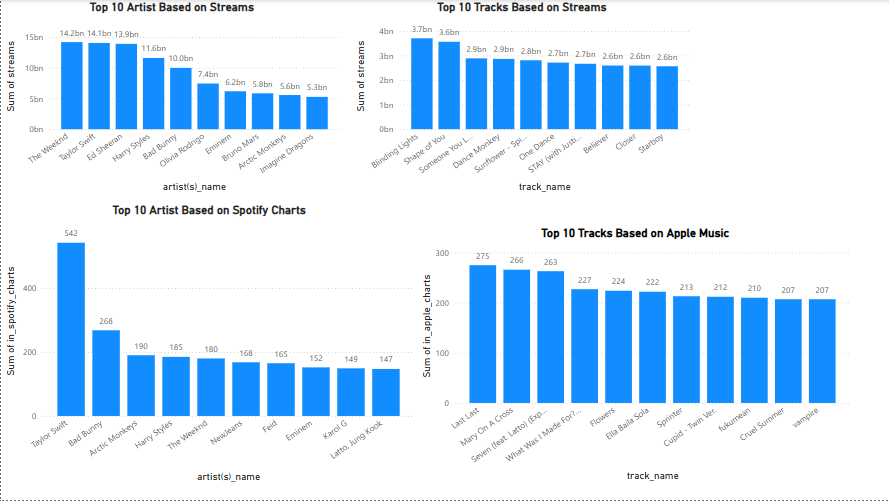

This screenshot's page, from the dashboard's own definition file:
{"tool":"powerbi","page":{"name":"Page 2","canvas":[1280,720],"ordinal":1},"visuals":[{"type":"clusteredColumnChart","title":"Top 10 Artist Based on Streams","fields":{"Category":["spotify-2023.artist(s)_name"],"Y":["spotify-2023.streams"]},"box":[0,0,492.2,282.2],"z":0},{"type":"clusteredColumnChart","title":"Top 10 Artist Based on Spotify Charts","fields":{"Y":["spotify-2023.in_spotify_charts"],"Category":["spotify-2023.artist(s)_name"]},"box":[0,292.3,599.7,406.5],"z":1000},{"type":"columnChart","title":"Top 10 Tracks Based on Streams","fields":{"Category":["spotify-2023.track_name"],"Y":["spotify-2023.streams"]},"box":[504,0,492,282],"z":2000},{"type":"columnChart","title":"Top 10  Tracks Based on Apple Music","fields":{"Category":["spotify-2023.track_name"],"Y":["spotify-2023.in_apple_charts"]},"box":[599.7,325.9,628.2,372.9],"z":3000}]}

Visuals, with their boxes in screenshot pixels (x1, y1, x2, y2), scaled from the page's 1280x720 canvas onto the 889x501 screenshot:
"Top 10 Artist Based on Streams" clusteredColumnChart: (0,0,342,196)
"Top 10 Artist Based on Spotify Charts" clusteredColumnChart: (0,203,417,486)
"Top 10 Tracks Based on Streams" columnChart: (350,0,692,196)
"Top 10  Tracks Based on Apple Music" columnChart: (417,227,853,486)
